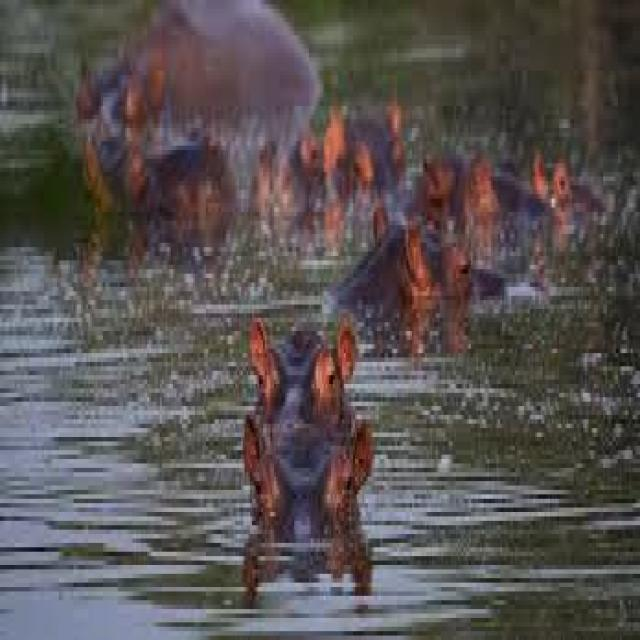Hippopotamus: (242, 314, 364, 517), (338, 219, 472, 330)
